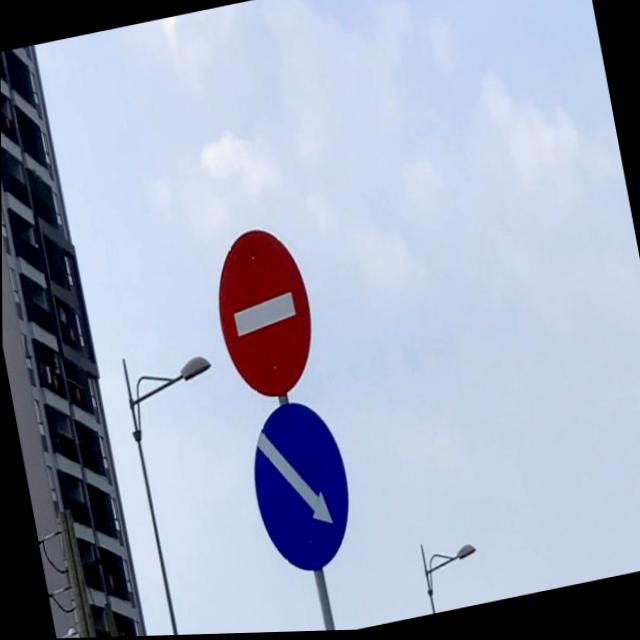Cam di nguoc chieu: (203, 221, 324, 408)
Vong chuong ngai vat sang phai: (239, 394, 362, 583)
